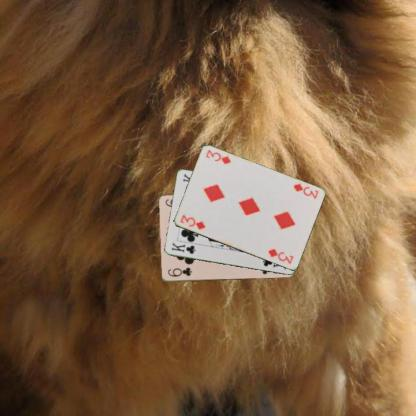3d: (176, 212, 206, 231), (290, 181, 320, 200)
6c: (165, 265, 193, 278)
Kc: (169, 240, 196, 255)
